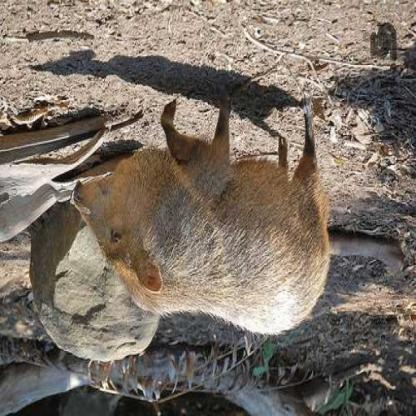boar: (71, 82, 356, 341)
